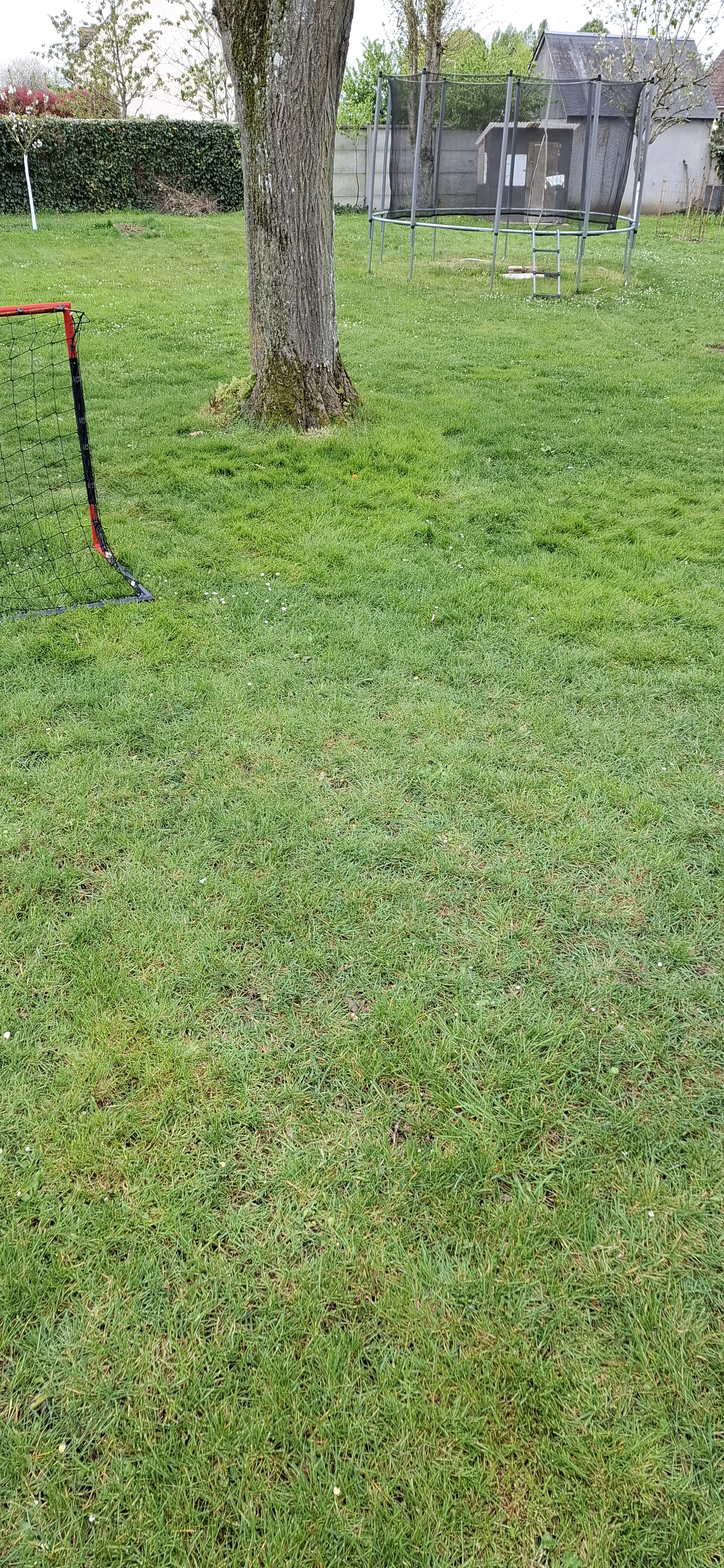ball: (219, 795, 222, 806)
